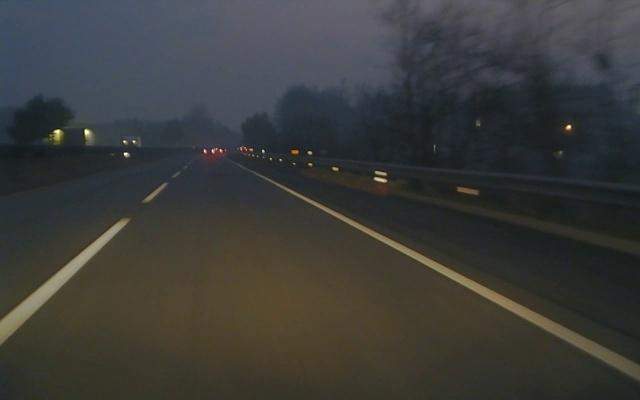lane: (251, 171, 640, 382), (0, 170, 181, 348)
